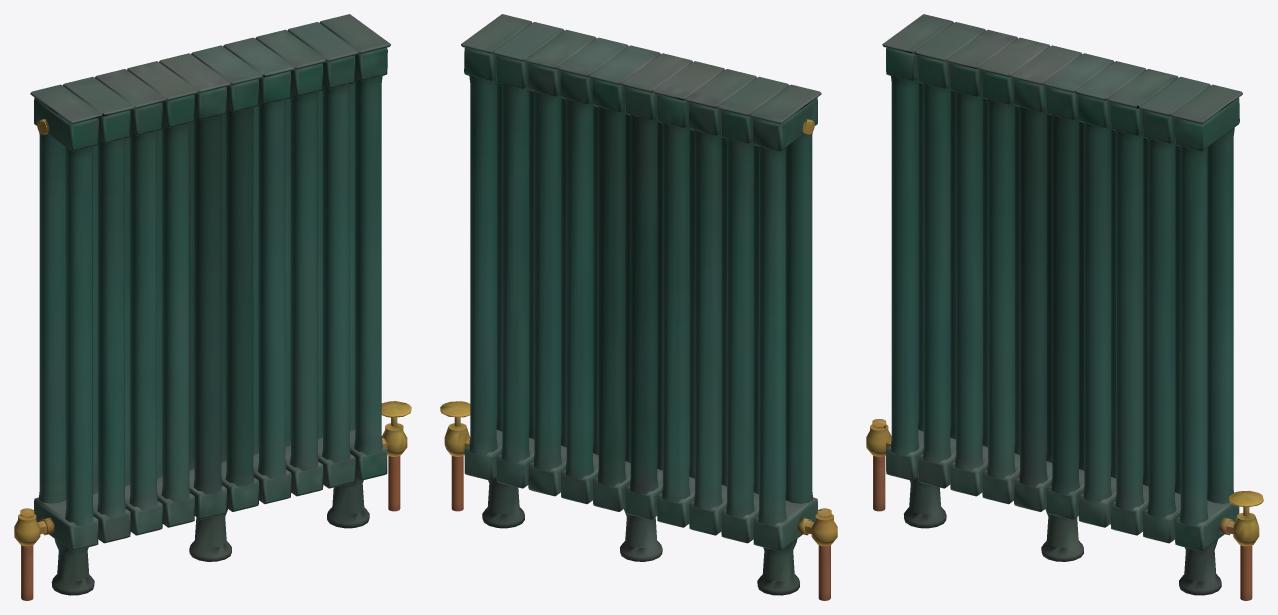
The model's file is column-radiator-10.glb.
The picture shows the model from 3 angles, left to right: view 1: azimuth 30°, elevation 25°; view 2: azimuth 150°, elevation 25°; view 3: azimuth 330°, elevation 25°; orthographic projection.
Visible parts, largest first — view 1: radiator; view 2: radiator; view 3: radiator.
Boxes of the visible parts, bbox=[...] form: radiator: bbox=[14, 14, 411, 600]; radiator: bbox=[440, 14, 837, 600]; radiator: bbox=[866, 14, 1263, 600].
Size of the model in its own units: 0.5824 by 0.6875 by 0.106.
1 material, 1 textured.
